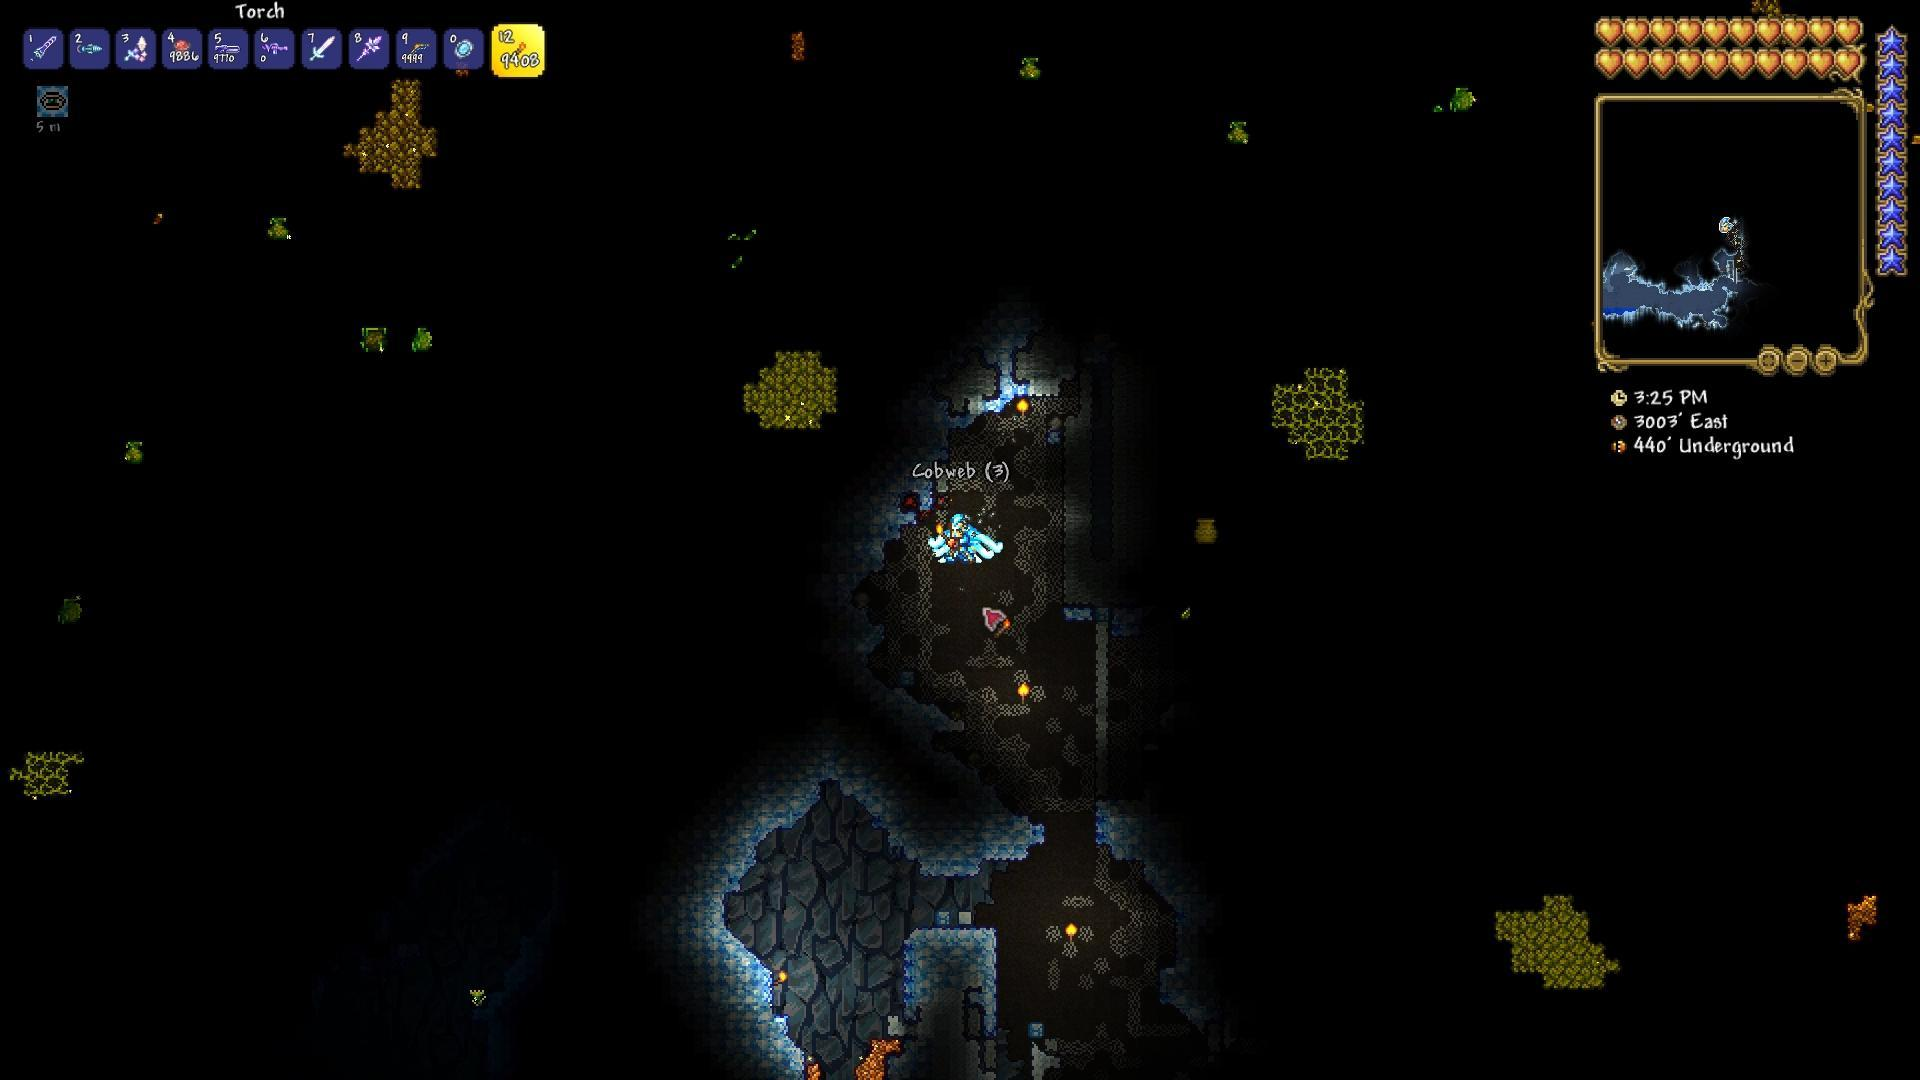cobwebT: (894, 527, 936, 600), (895, 603, 931, 644), (1015, 527, 1046, 567), (1036, 568, 1059, 600), (930, 673, 963, 694), (968, 654, 1015, 669), (1013, 492, 1038, 512)
pot: (1224, 113, 1254, 149), (1444, 84, 1480, 113), (361, 320, 388, 353), (123, 438, 146, 468), (413, 323, 435, 355)
